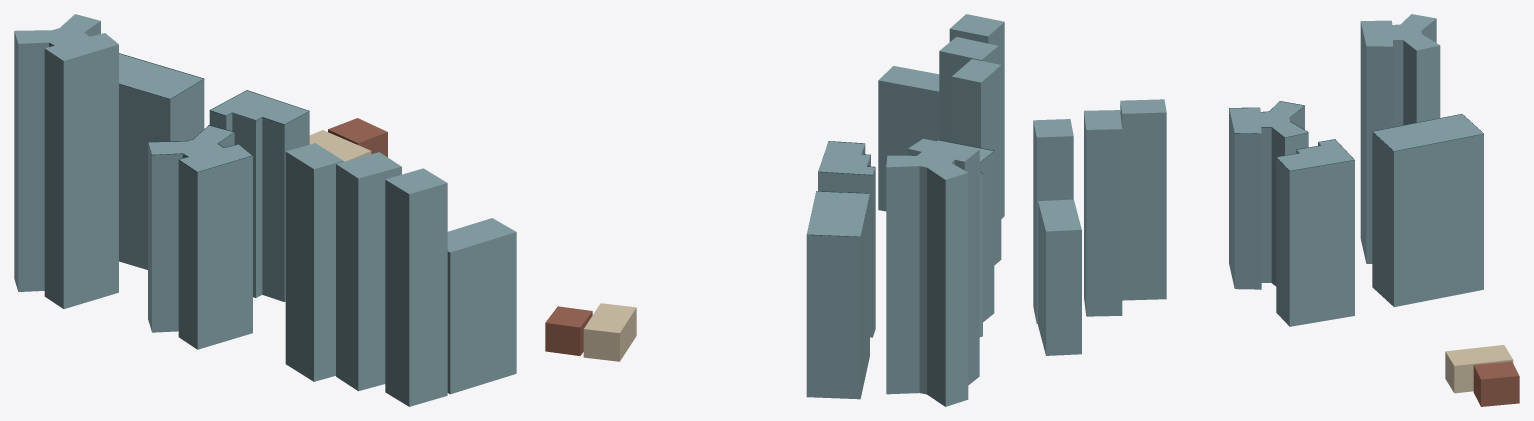
The model's file is city_-3_-6.glb.
3 views of the same model, side by side, from view 1: azimuth 30°, elevation 25°; view 2: azimuth 150°, elevation 25°; view 3: azimuth 270°, elevation 25° (orthographic). The views are drawn at different scales.
Parts seen in each view (by area): view 1: city_-3_-6; view 2: city_-3_-6; view 3: city_-3_-6.
Part boxes in pixels (left/top/right/bottom): city_-3_-6: left=14, top=14, right=516, bottom=406; city_-3_-6: left=545, top=14, right=1004, bottom=406; city_-3_-6: left=1033, top=14, right=1519, bottom=406.
Size of the model in its own units: 205 by 119 by 241.
